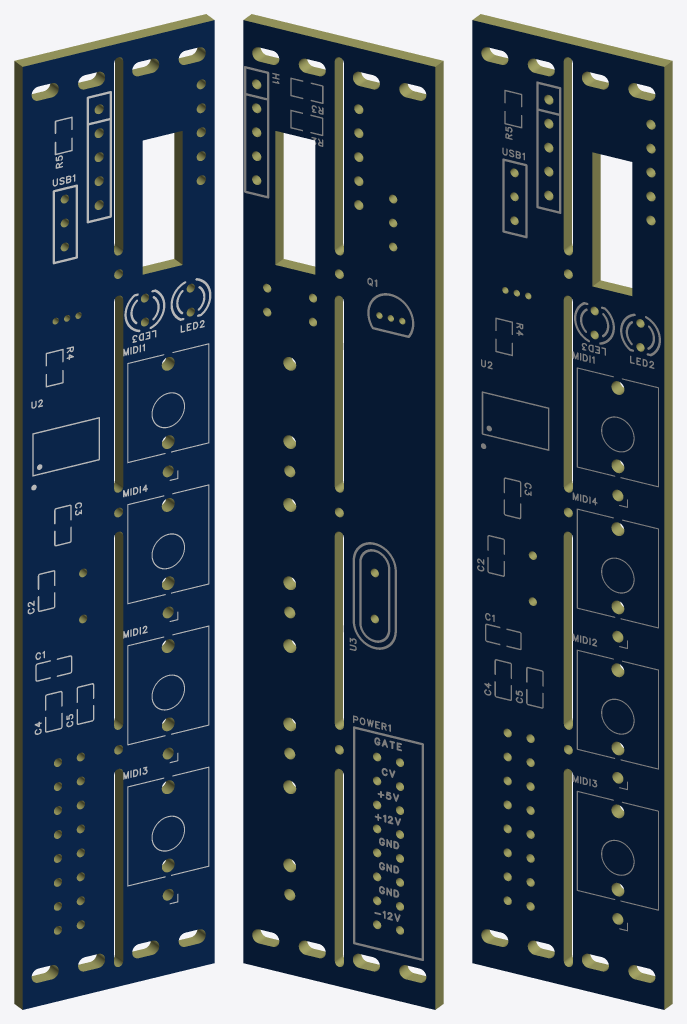
The model's file is 3D_USBMIDI_2024-09-12.obj.
3 views of the same model, side by side, from view 1: azimuth 30°, elevation 25°; view 2: azimuth 150°, elevation 25°; view 3: azimuth 330°, elevation 25° (orthographic).
Size of the model in its own units: 21.29 by 99.97 by 1.62.
